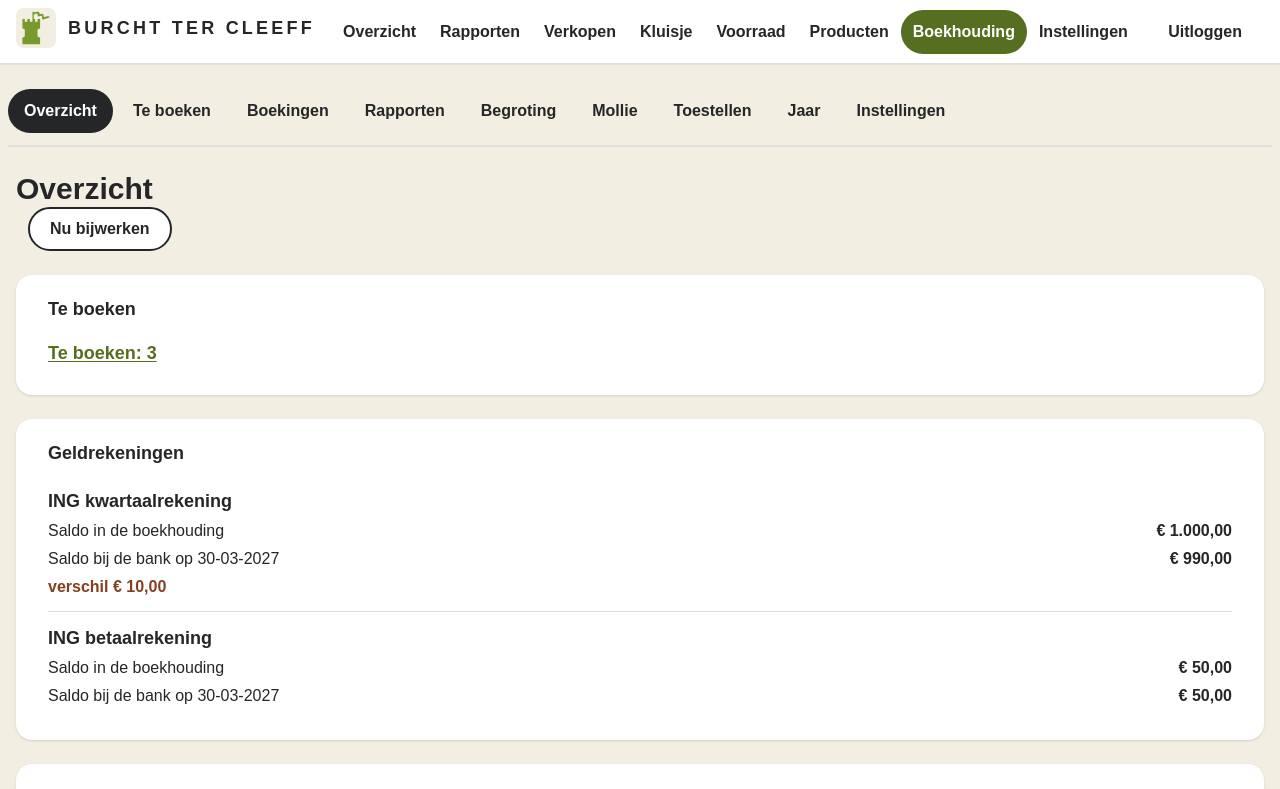
Test: brings the books up to date on a click and shows how it went
The image size is (1280, 789).
Click the button "Nu bijwerken" at (100, 229), box left=28, top=207, right=172, bottom=251
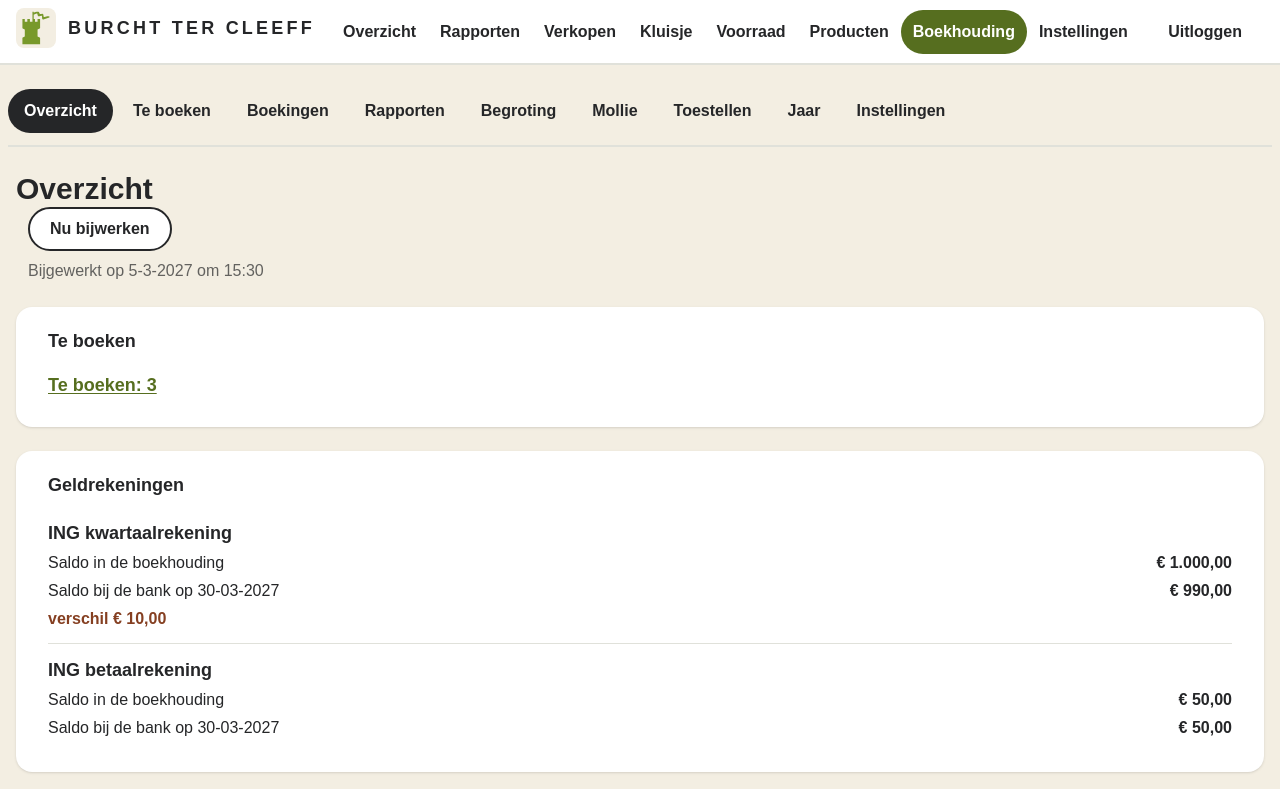
Expected: the text "Bijgewerkt op 5-3-2027 om 15:30" is shown, left=28, top=259, right=264, bottom=283
